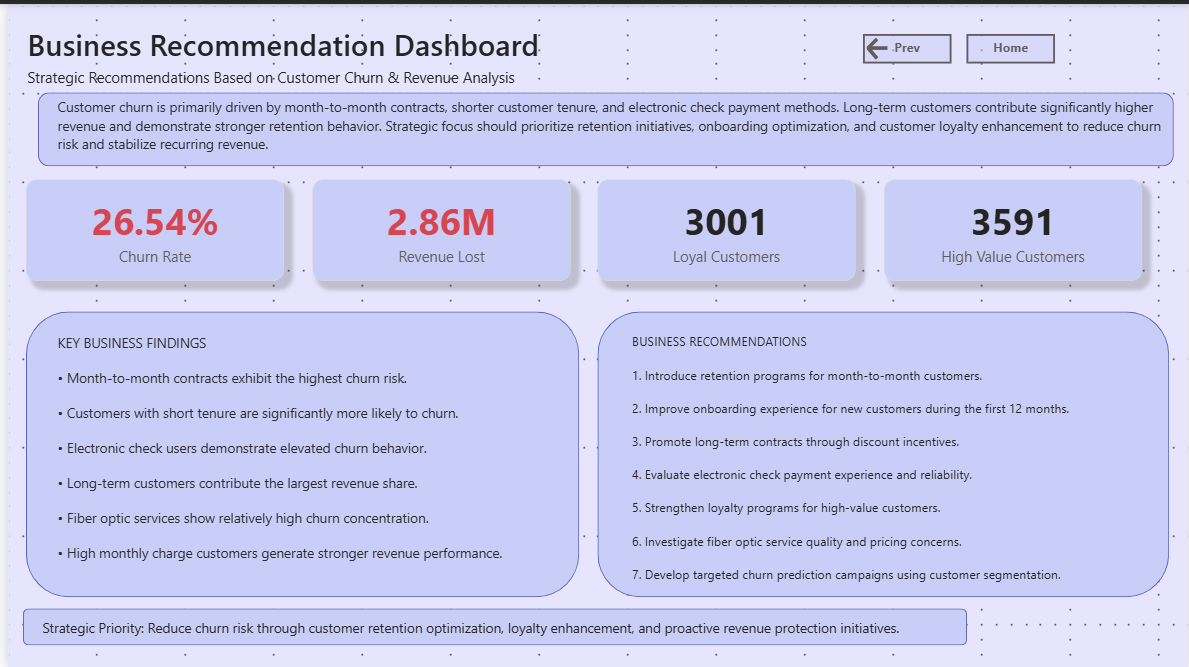

The page's visual inventory and layout, read from the dashboard file:
{"tool":"powerbi","page":{"name":"Business Recomendation ","canvas":[1280,720],"ordinal":4},"visuals":[{"type":"textbox","box":[16,16,592,64],"z":0},{"type":"textbox","box":[16,64,608,32],"z":1000},{"type":"shape","box":[32,96,1232,80],"z":2000},{"type":"textbox","box":[48,96,1216,80],"z":3000},{"type":"card","fields":{"Values":["fact_churn.Churn Rate"]},"box":[20,190,280,110],"z":4000},{"type":"card","fields":{"Values":["fact_churn.Revenue Lost"]},"box":[330,190,280,110],"z":5000},{"type":"card","fields":{"Values":["fact_churn.Loyal Customers"]},"box":[640,190,280,110],"z":6000},{"type":"card","fields":{"Values":["fact_churn.High Value Customers"]},"box":[950,190,280,110],"z":7000},{"type":"shape","box":[20,333,600,310],"z":8000},{"type":"textbox","box":[48,352,544,288],"z":9000},{"type":"shape","box":[640,333,620,310],"z":10000},{"type":"textbox","box":[672,352,560,288],"z":11000},{"type":"shape","box":[16,656,1024,40],"z":12000},{"type":"textbox","box":[32,660,959,30],"z":13000},{"type":"actionButton","box":[1040,32,96,32],"z":14000},{"type":"actionButton","box":[928,32,96,32],"z":15000}]}

Visuals, with their boxes in screenshot pixels (x1, y1, x2, y2), scaled from the page's 1280x720 canvas onto the 1189x667 screenshot:
textbox: {"left": 15, "top": 15, "right": 565, "bottom": 74}
textbox: {"left": 15, "top": 59, "right": 580, "bottom": 89}
shape: {"left": 30, "top": 89, "right": 1174, "bottom": 163}
textbox: {"left": 45, "top": 89, "right": 1174, "bottom": 163}
card - fact_churn.Churn Rate: {"left": 19, "top": 176, "right": 279, "bottom": 278}
card - fact_churn.Revenue Lost: {"left": 307, "top": 176, "right": 567, "bottom": 278}
card - fact_churn.Loyal Customers: {"left": 594, "top": 176, "right": 855, "bottom": 278}
card - fact_churn.High Value Customers: {"left": 882, "top": 176, "right": 1143, "bottom": 278}
shape: {"left": 19, "top": 308, "right": 576, "bottom": 596}
textbox: {"left": 45, "top": 326, "right": 550, "bottom": 593}
shape: {"left": 594, "top": 308, "right": 1170, "bottom": 596}
textbox: {"left": 624, "top": 326, "right": 1144, "bottom": 593}
shape: {"left": 15, "top": 608, "right": 966, "bottom": 645}
textbox: {"left": 30, "top": 611, "right": 921, "bottom": 639}
actionButton: {"left": 966, "top": 30, "right": 1055, "bottom": 59}
actionButton: {"left": 862, "top": 30, "right": 951, "bottom": 59}
